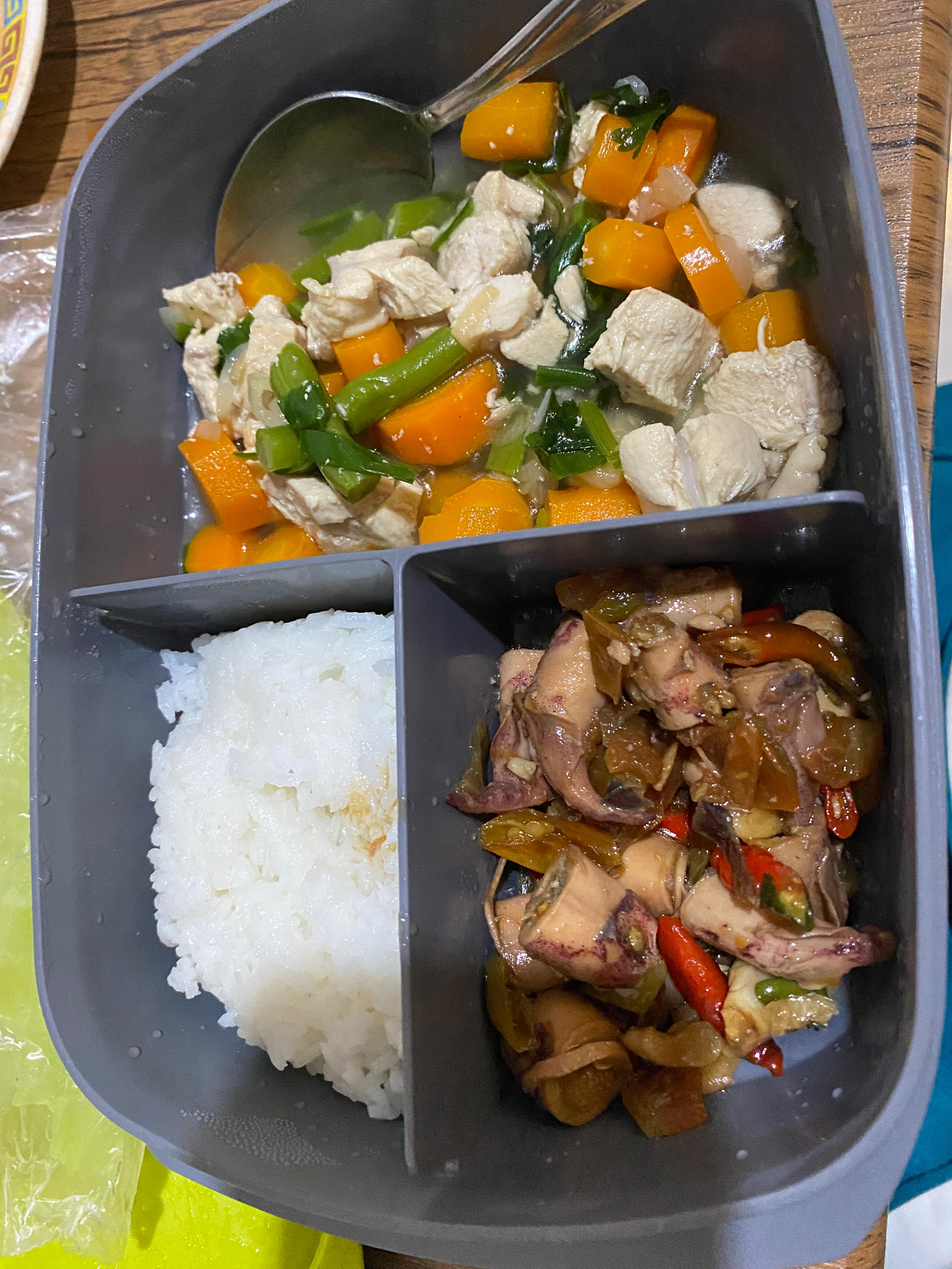buah_sayur_lainnya: (263, 364, 371, 489)
buah_sayur_vitA: (173, 436, 269, 578), (378, 362, 507, 461), (598, 214, 730, 293)
daging: (604, 288, 809, 516)
makanan_berpati: (142, 648, 406, 1124)
